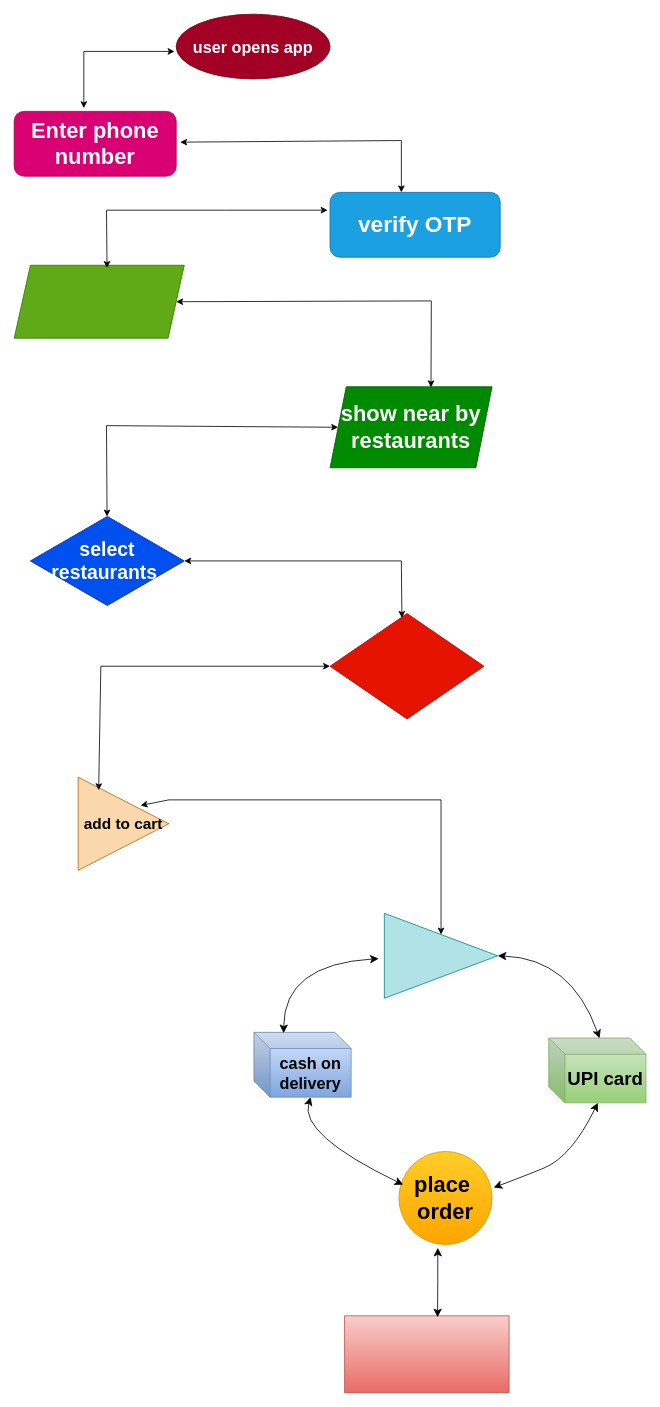
The diagram is 660 pixels wide and 1407 high, and some of its shapes have lost their labels. The shapes that lost their labels are listed below. From the top down, each one's centre as x and y in pixels, then its label:
At (98,301): "Enter address".
At (406,666): "show menu".
At (441,955): "choose payment".
At (426,1354): "order confirmed".
